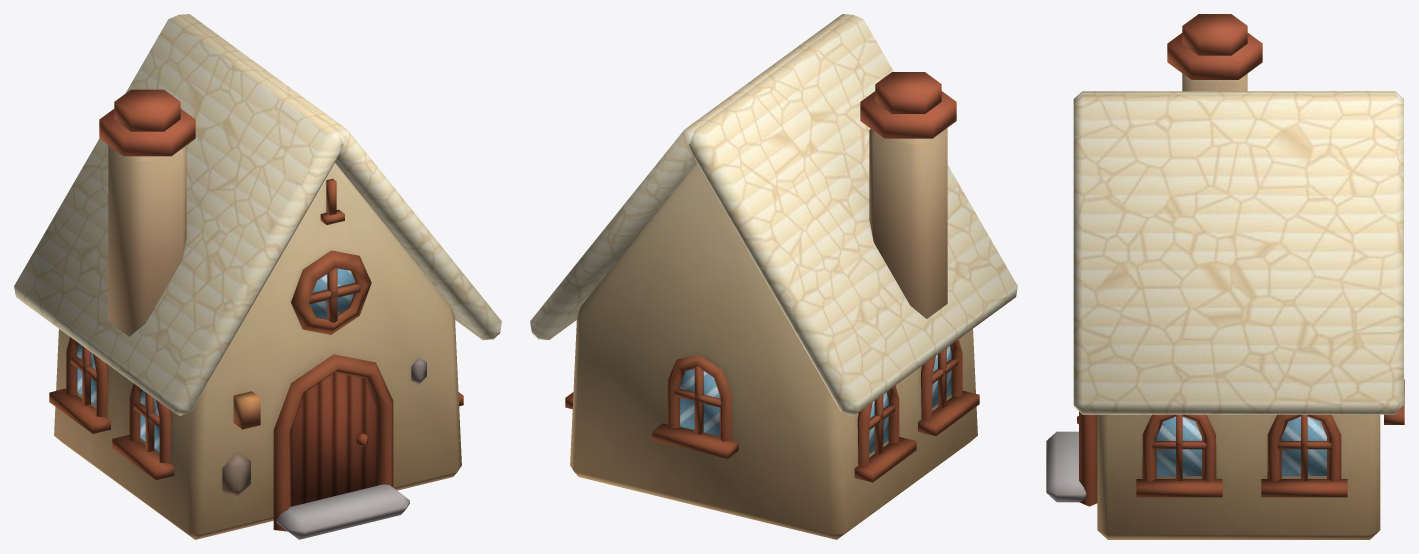
File: hut_low.glb
3 views of the same model, side by side, from view 1: azimuth 30°, elevation 25°; view 2: azimuth 150°, elevation 25°; view 3: azimuth 270°, elevation 25° (orthographic).
Visible parts, largest first — view 1: hut; view 2: hut; view 3: hut.
Boxes of the visible parts, <box> form: hut: <box>14,14,501,539</box>; hut: <box>530,14,1017,539</box>; hut: <box>1046,14,1404,539</box>.
Bounding box in the file's own units: 1.27 × 1.45 × 1.2.
Materials: 1 (1 with a texture image).
